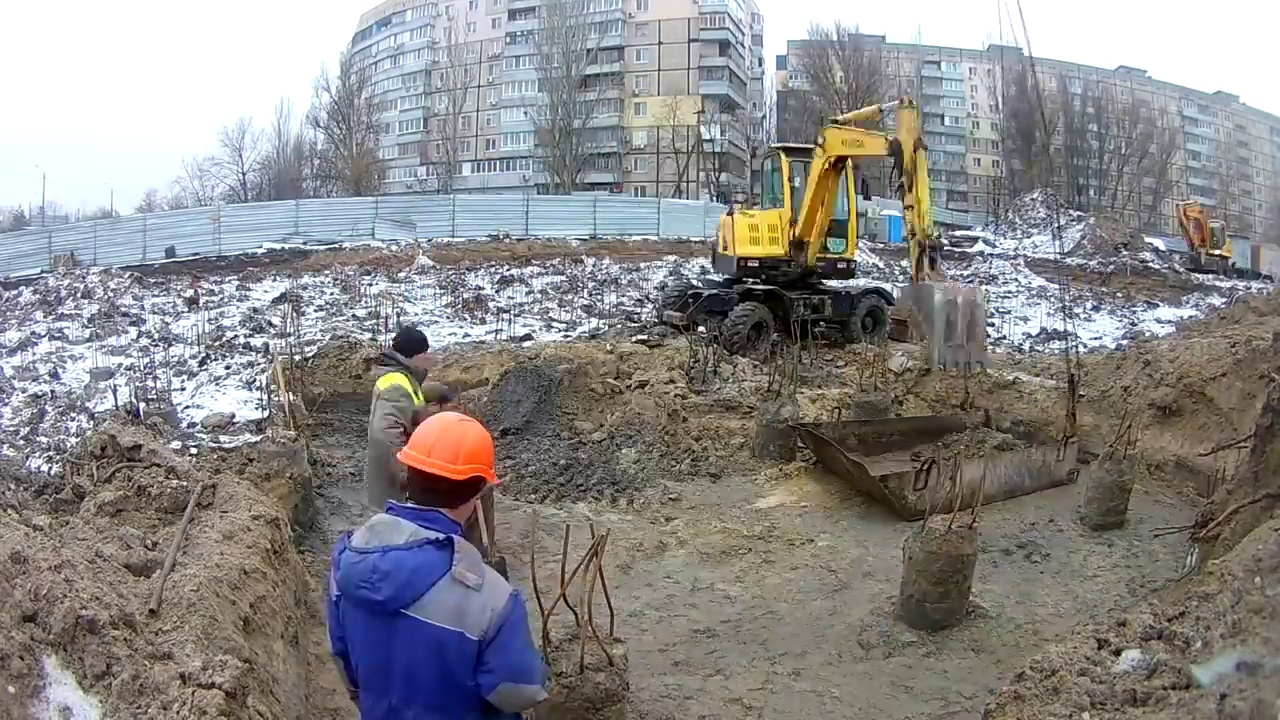helmet: (392, 410, 498, 487)
helmet-off: (391, 327, 430, 374)
helmet-on: (393, 407, 498, 525)
person: (329, 409, 544, 718), (367, 327, 431, 512)
